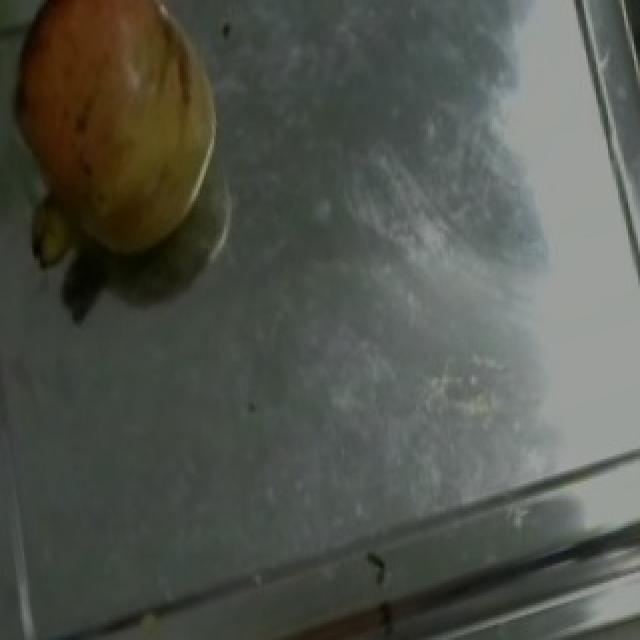fruit: (0, 0, 244, 256)
